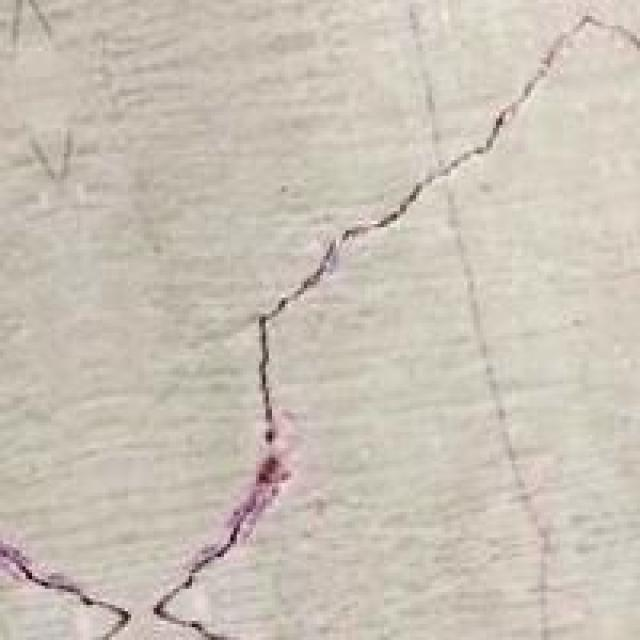crack: (0, 80, 522, 637)
